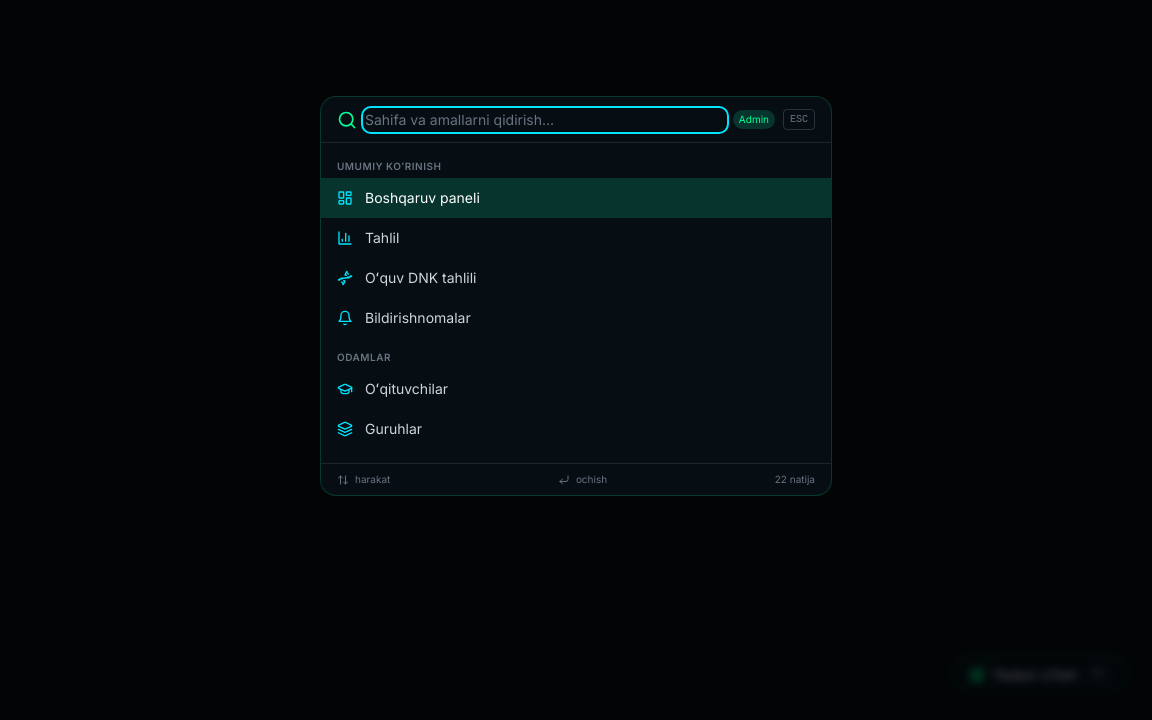
Test: 3.14: the admin portal stays in Uzbek › command palette: admin commands, quick actions and chrome texts
The width and height of the screenshot is (1152, 720).
Type "zzz" into the field with placeholder "Sahifa va amallarni qidirish…". click: (545, 120)
box: [365,110,725,130]
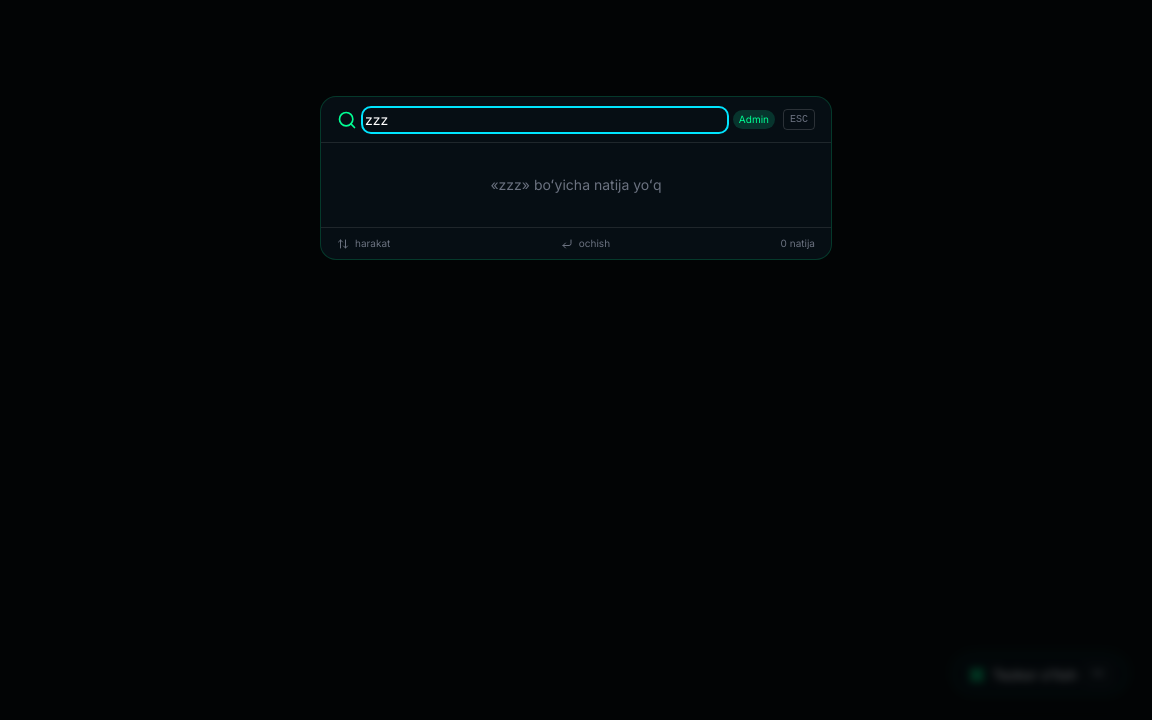
Result: the text "«zzz» boʻyicha natija yoʻq" is shown at [490,176,662,193]
